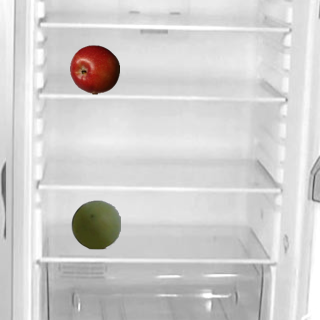Apple Braeburn: (69, 44, 119, 94)
Grape White 4: (70, 199, 120, 249)
